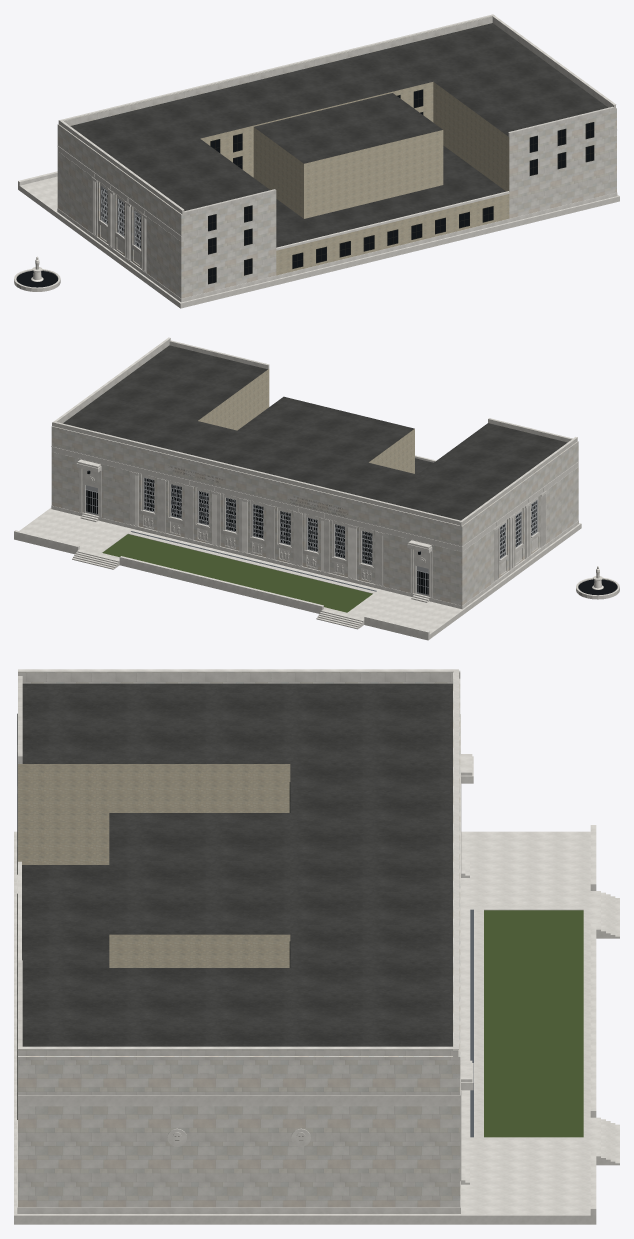
Rendered from SM_F01_Folger.glb.
The picture shows the model from 3 angles, top to bottom: view 1: azimuth 30°, elevation 25°; view 2: azimuth 150°, elevation 25°; view 3: azimuth 270°, elevation 25°; orthographic projection. The views are drawn at different scales.
Visible parts, largest first — view 1: SM_F01_Folger_LOD0; view 2: SM_F01_Folger_LOD0; view 3: SM_F01_Folger_LOD0.
Part boxes in pixels (box(x1,y1,x2,y2)): SM_F01_Folger_LOD0: box(14, 14, 619, 308); SM_F01_Folger_LOD0: box(14, 337, 619, 640); SM_F01_Folger_LOD0: box(14, 669, 619, 1224).
Size of what is drawn, in the model's own units: 85.38 by 14.63 by 46.33.
Materials: 11 (4 with a texture image).
